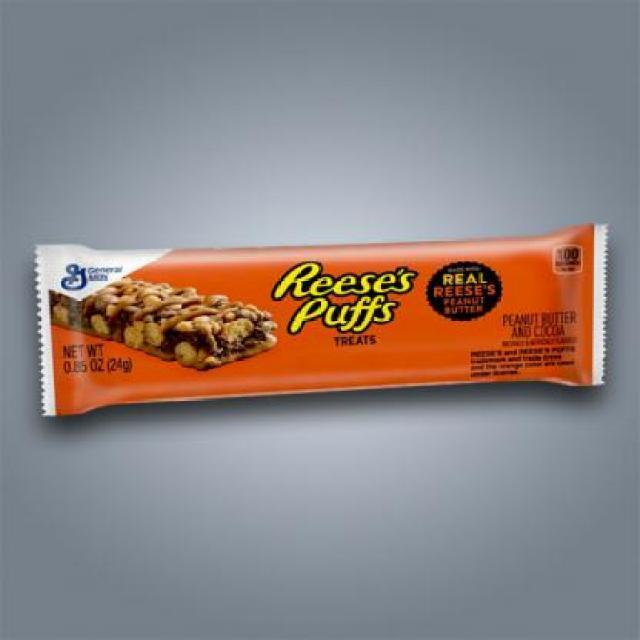Cereal bar: (21, 229, 638, 426)
